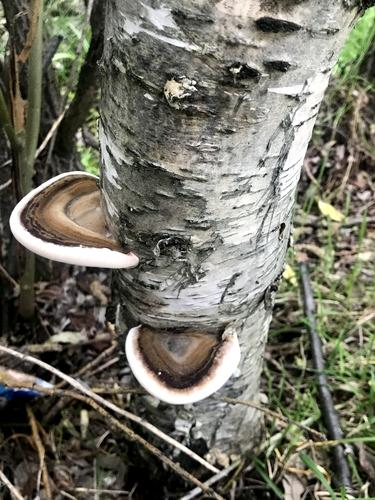Ganoderma - Fruit Body: (7, 170, 145, 267), (126, 321, 242, 405)
